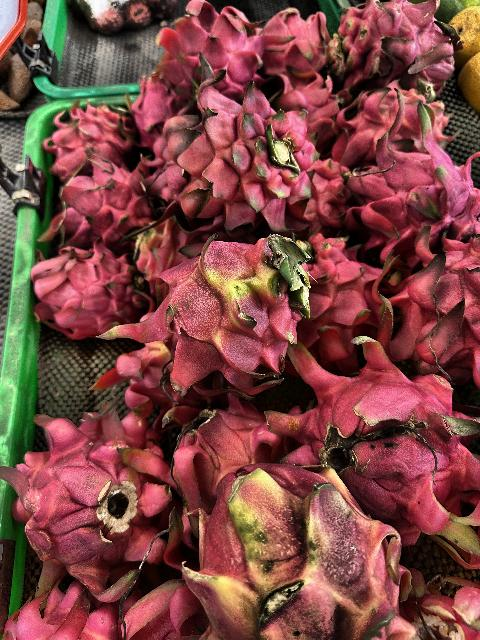buah-naga-belum-matang: (186, 454, 436, 640), (150, 232, 302, 388)
buah-naga-matang: (278, 346, 480, 522), (8, 406, 158, 576), (174, 82, 316, 228), (380, 217, 480, 391), (338, 115, 480, 235), (148, 0, 268, 102), (284, 234, 380, 358), (329, 0, 455, 88), (29, 240, 151, 330), (164, 390, 268, 486), (46, 162, 150, 242), (8, 580, 120, 640), (45, 98, 137, 168), (258, 4, 330, 80), (273, 76, 343, 140), (131, 72, 181, 138)
